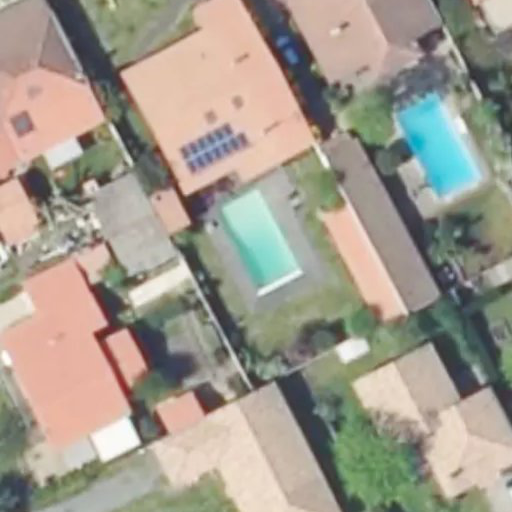pool: (391, 92, 482, 198), (211, 191, 306, 291)
